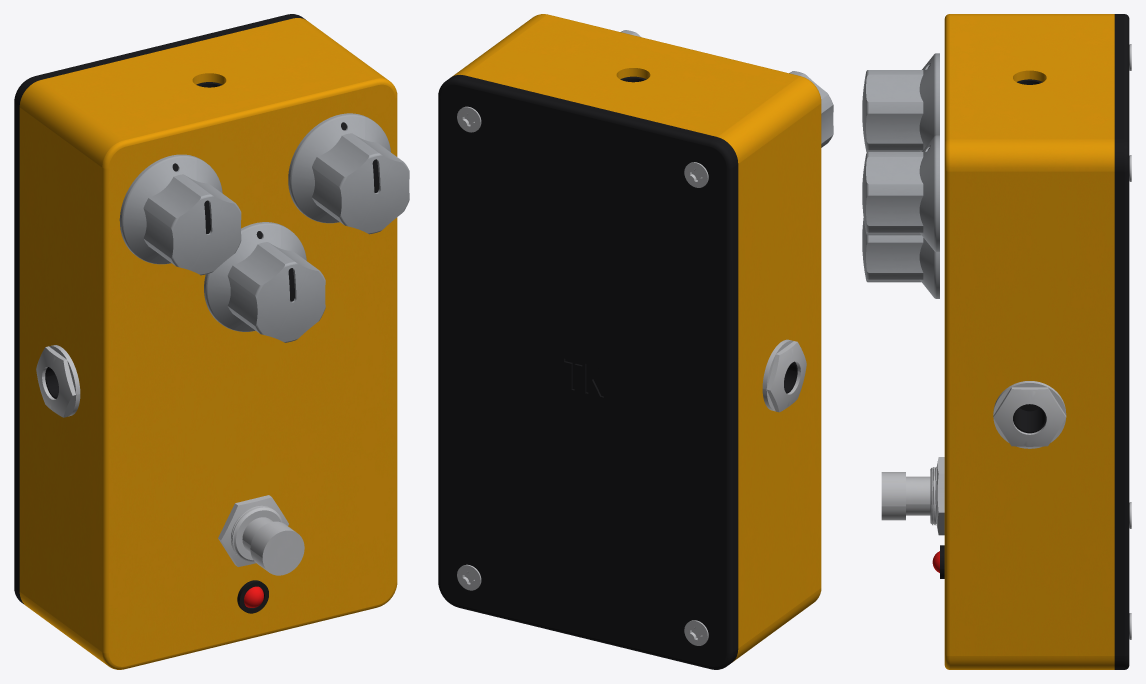
Rendered from Pedal3.glb.
3 views of the same model, side by side, from view 1: azimuth 30°, elevation 25°; view 2: azimuth 150°, elevation 25°; view 3: azimuth 270°, elevation 25° (orthographic).
Parts seen in each view (by area): view 1: Shape_IndexedFaceSet.085, Shape_IndexedFaceSet.056, Shape_IndexedFaceSet.064, Shape_IndexedFaceSet.090, Shape_IndexedFaceSet.094, Shape_IndexedFaceSet.044, Shape_IndexedFaceSet.290, Shape_IndexedFaceSet.329, Shape_IndexedFaceSet.368, Shape_IndexedFaceSet.339, Shape_IndexedFaceSet.378, Shape_IndexedFaceSet.300 (+20 smaller); view 2: Shape_IndexedFaceSet, Shape_IndexedFaceSet.056, Shape_IndexedFaceSet.064, Shape_IndexedFaceSet.051, Shape_IndexedFaceSet.090, Shape_IndexedFaceSet.044, Shape_IndexedFaceSet.053, Shape_IndexedFaceSet.055, Shape_IndexedFaceSet.046, Shape_IndexedFaceSet.088, Shape_IndexedFaceSet.049, Shape_IndexedFaceSet.240 (+1 smaller); view 3: Shape_IndexedFaceSet.057, Shape_IndexedFaceSet.064, Shape_IndexedFaceSet.089, Shape_IndexedFaceSet.040, Shape_IndexedFaceSet.055, Shape_IndexedFaceSet.098, Shape_IndexedFaceSet.086, Shape_IndexedFaceSet.351, Shape_IndexedFaceSet.390, Shape_IndexedFaceSet.312, Shape_IndexedFaceSet.311, Shape_IndexedFaceSet.350 (+16 smaller).
Part boxes in pixels (<box>): Shape_IndexedFaceSet.085: <box>109,84,394,666</box>; Shape_IndexedFaceSet.056: <box>19,107,102,651</box>; Shape_IndexedFaceSet.064: <box>41,18,375,140</box>; Shape_IndexedFaceSet.090: <box>19,80,122,167</box>; Shape_IndexedFaceSet.094: <box>102,168,108,653</box>; Shape_IndexedFaceSet.044: <box>14,104,19,591</box>; Shape_IndexedFaceSet.290: <box>123,157,196,261</box>; Shape_IndexedFaceSet.329: <box>291,116,365,220</box>; Shape_IndexedFaceSet.368: <box>207,225,280,329</box>; Shape_IndexedFaceSet.339: <box>340,155,391,229</box>; Shape_IndexedFaceSet.378: <box>256,264,307,337</box>; Shape_IndexedFaceSet.300: <box>172,196,222,270</box>; Shape_IndexedFaceSet: <box>440,84,726,666</box>; Shape_IndexedFaceSet.056: <box>738,104,820,648</box>; Shape_IndexedFaceSet.064: <box>465,15,799,136</box>; Shape_IndexedFaceSet.051: <box>726,168,733,653</box>; Shape_IndexedFaceSet.090: <box>717,76,820,163</box>; Shape_IndexedFaceSet.044: <box>733,164,738,651</box>; Shape_IndexedFaceSet.053: <box>457,79,711,146</box>; Shape_IndexedFaceSet.055: <box>438,97,440,582</box>; Shape_IndexedFaceSet.046: <box>460,75,716,140</box>; Shape_IndexedFaceSet.088: <box>733,588,820,661</box>; Shape_IndexedFaceSet.049: <box>457,605,710,669</box>; Shape_IndexedFaceSet.240: <box>770,349,792,412</box>; Shape_IndexedFaceSet.057: <box>949,171,1114,655</box>; Shape_IndexedFaceSet.064: <box>949,16,1114,139</box>; Shape_IndexedFaceSet.089: <box>949,139,1114,171</box>; Shape_IndexedFaceSet.040: <box>1114,171,1124,655</box>; Shape_IndexedFaceSet.055: <box>1124,170,1129,655</box>; Shape_IndexedFaceSet.098: <box>944,170,949,655</box>; Shape_IndexedFaceSet.086: <box>949,656,1114,669</box>; Shape_IndexedFaceSet.351: <box>866,195,923,225</box>; Shape_IndexedFaceSet.390: <box>866,242,923,272</box>; Shape_IndexedFaceSet.312: <box>866,113,922,143</box>; Shape_IndexedFaceSet.311: <box>866,74,922,101</box>; Shape_IndexedFaceSet.350: <box>866,157,922,184</box>.
Bounding box in the file's own units: 0.7551 × 1.2 × 0.555.
5 materials, 4 textured.
